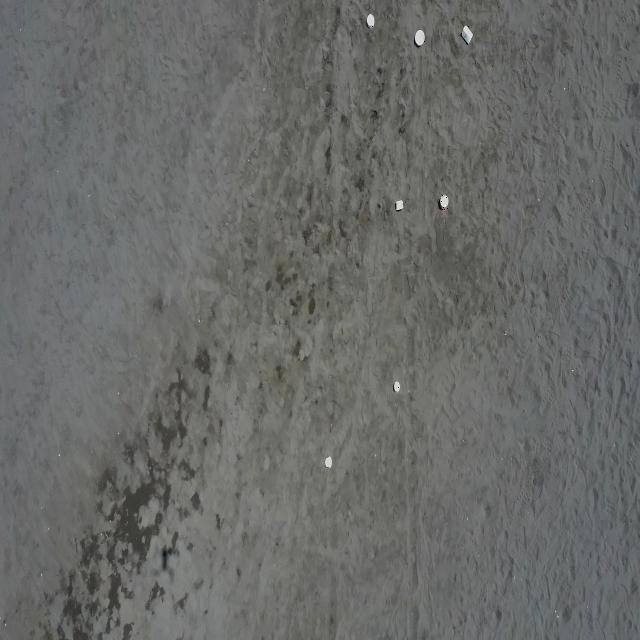take-away-containers: (462, 25, 473, 45), (415, 30, 425, 46), (440, 194, 449, 211), (366, 13, 375, 29), (395, 199, 404, 211), (325, 456, 332, 468), (393, 381, 400, 393)
